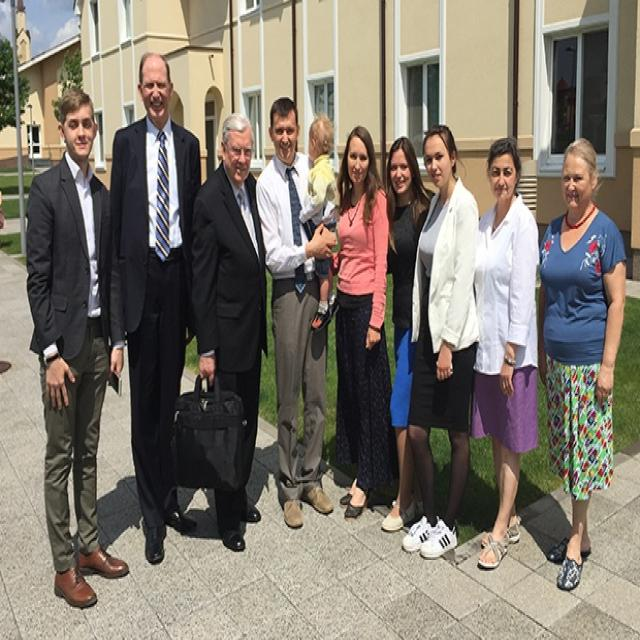body: (23, 83, 132, 613), (106, 51, 202, 570), (534, 133, 630, 593), (252, 94, 339, 532), (187, 107, 269, 555), (400, 120, 482, 564), (465, 132, 542, 572), (331, 124, 402, 521), (378, 133, 439, 535), (297, 111, 342, 334), (0, 183, 12, 376)
